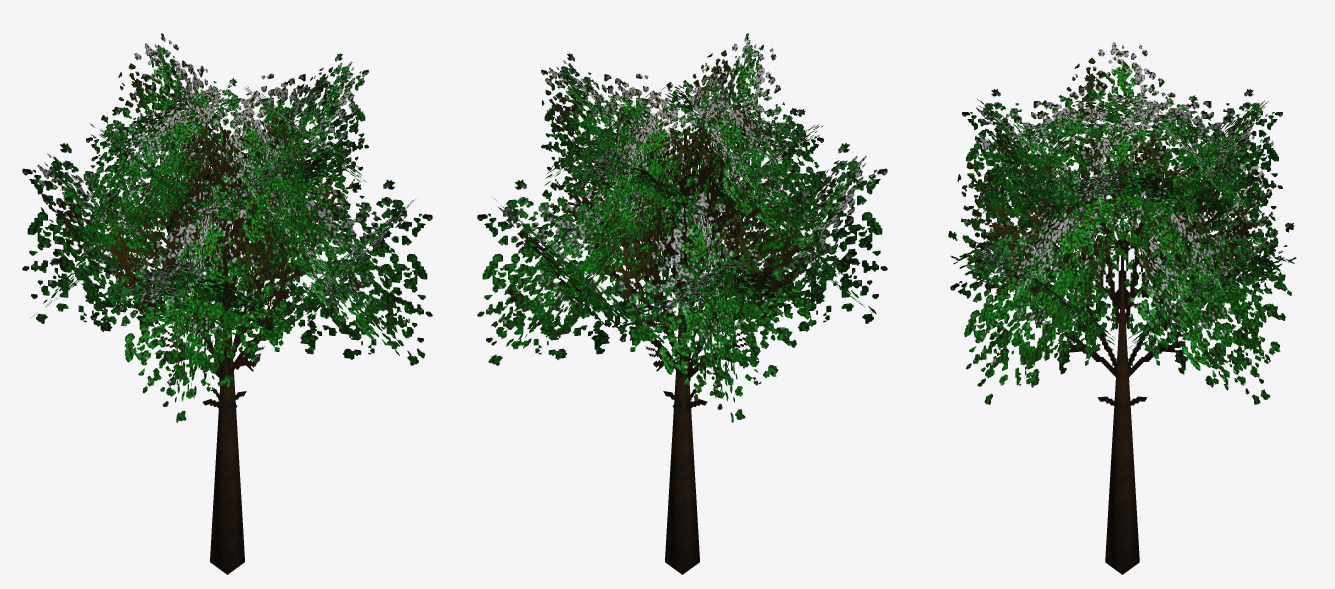
Rendered from fruitboom_1.fbx.
3 views of the same model, side by side, from view 1: azimuth 30°, elevation 25°; view 2: azimuth 150°, elevation 25°; view 3: azimuth 270°, elevation 25° (orthographic).
Parts seen in each view (by area): view 1: fruitboom_1; view 2: fruitboom_1; view 3: fruitboom_1.
Part boxes in pixels (box(x1,y1,x2,y2)): fruitboom_1: box(22, 33, 432, 574); fruitboom_1: box(477, 33, 887, 574); fruitboom_1: box(948, 42, 1296, 574).
Bounding box in the file's own units: 357 × 478 × 357.
